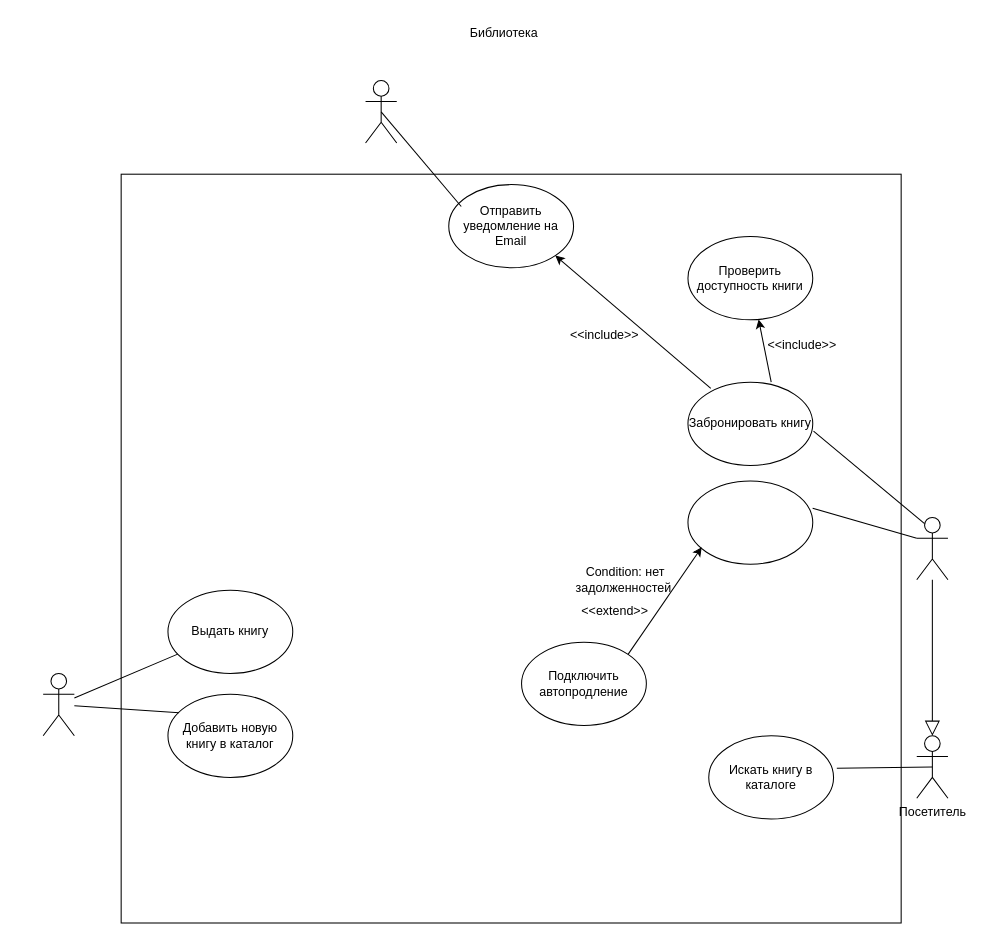
Image size: 984x941. Some labels were removed from this diagram. Here are the shapes that lost their labels. From the top down, the box of each, then its label:
(365, 80, 397, 143): Email-сервер
(687, 480, 813, 564): Продлить срок возврата
(916, 516, 948, 580): Читатель
(42, 672, 74, 736): Библиотекарь
